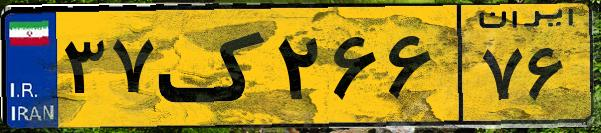2: (270, 28, 330, 110)
3: (57, 26, 110, 100)
6: (385, 28, 445, 110), (330, 28, 385, 110), (525, 38, 570, 115)
7: (475, 38, 525, 113), (110, 28, 158, 98)
ک: (158, 12, 270, 120)
